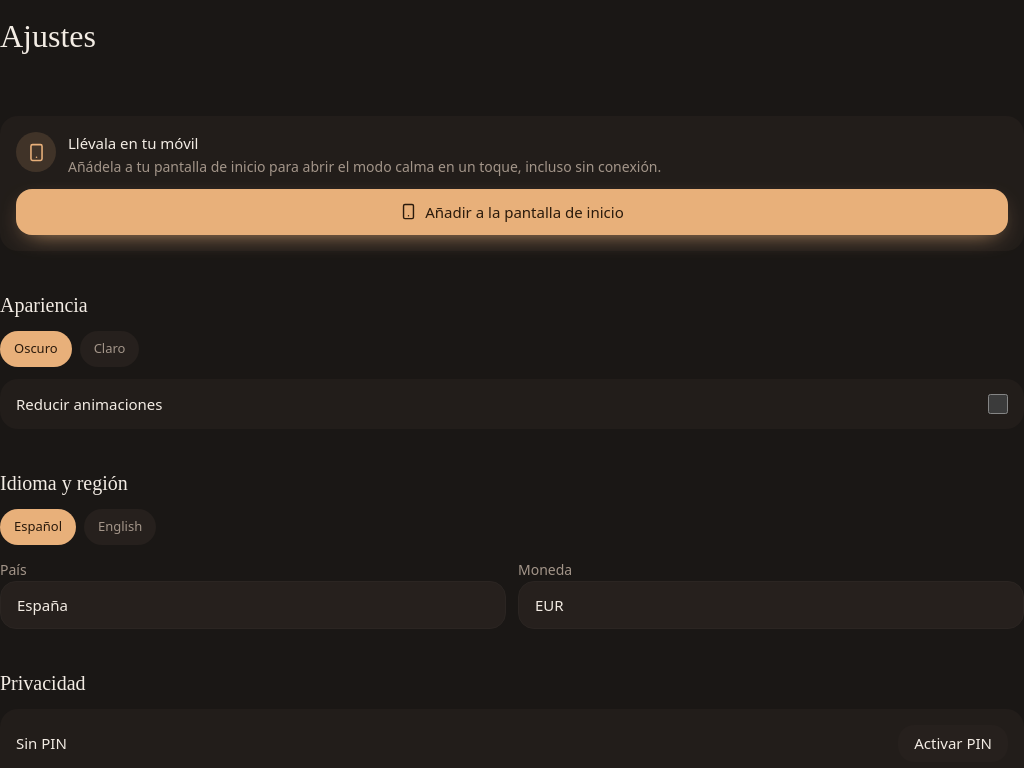
Test case: install button in Settings › falls back to Android browser-menu instructions without a native prompt
Click the button "Añadir a la pantalla de inicio" at (512, 212), box [16,188,1008,235]
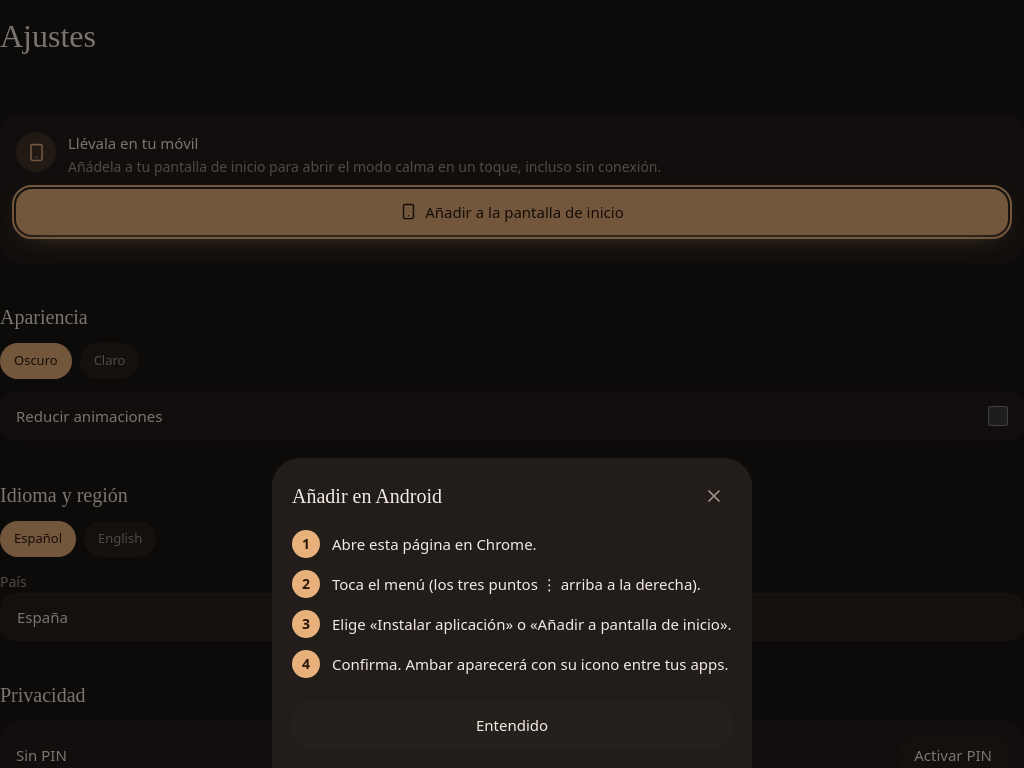
Check: the dialog shows "menú", box [332,574,701,594]
